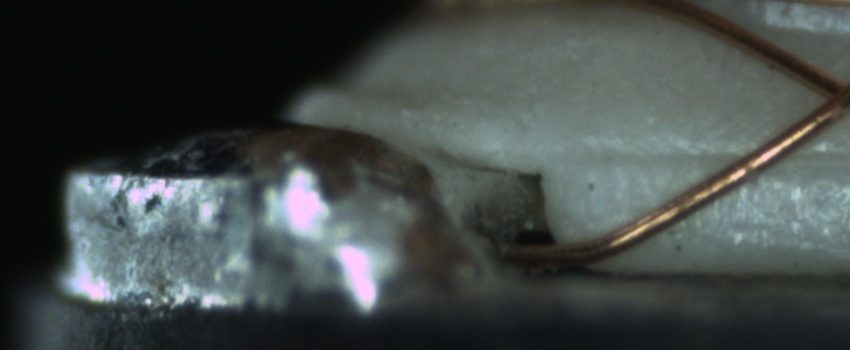CL: (802, 62, 850, 131)
DL: (569, 124, 848, 189)
